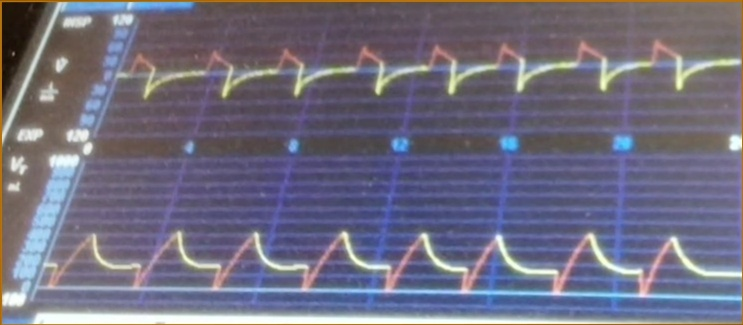Flow: (127, 21, 743, 127)
Leakage Volume: (45, 202, 741, 312)
